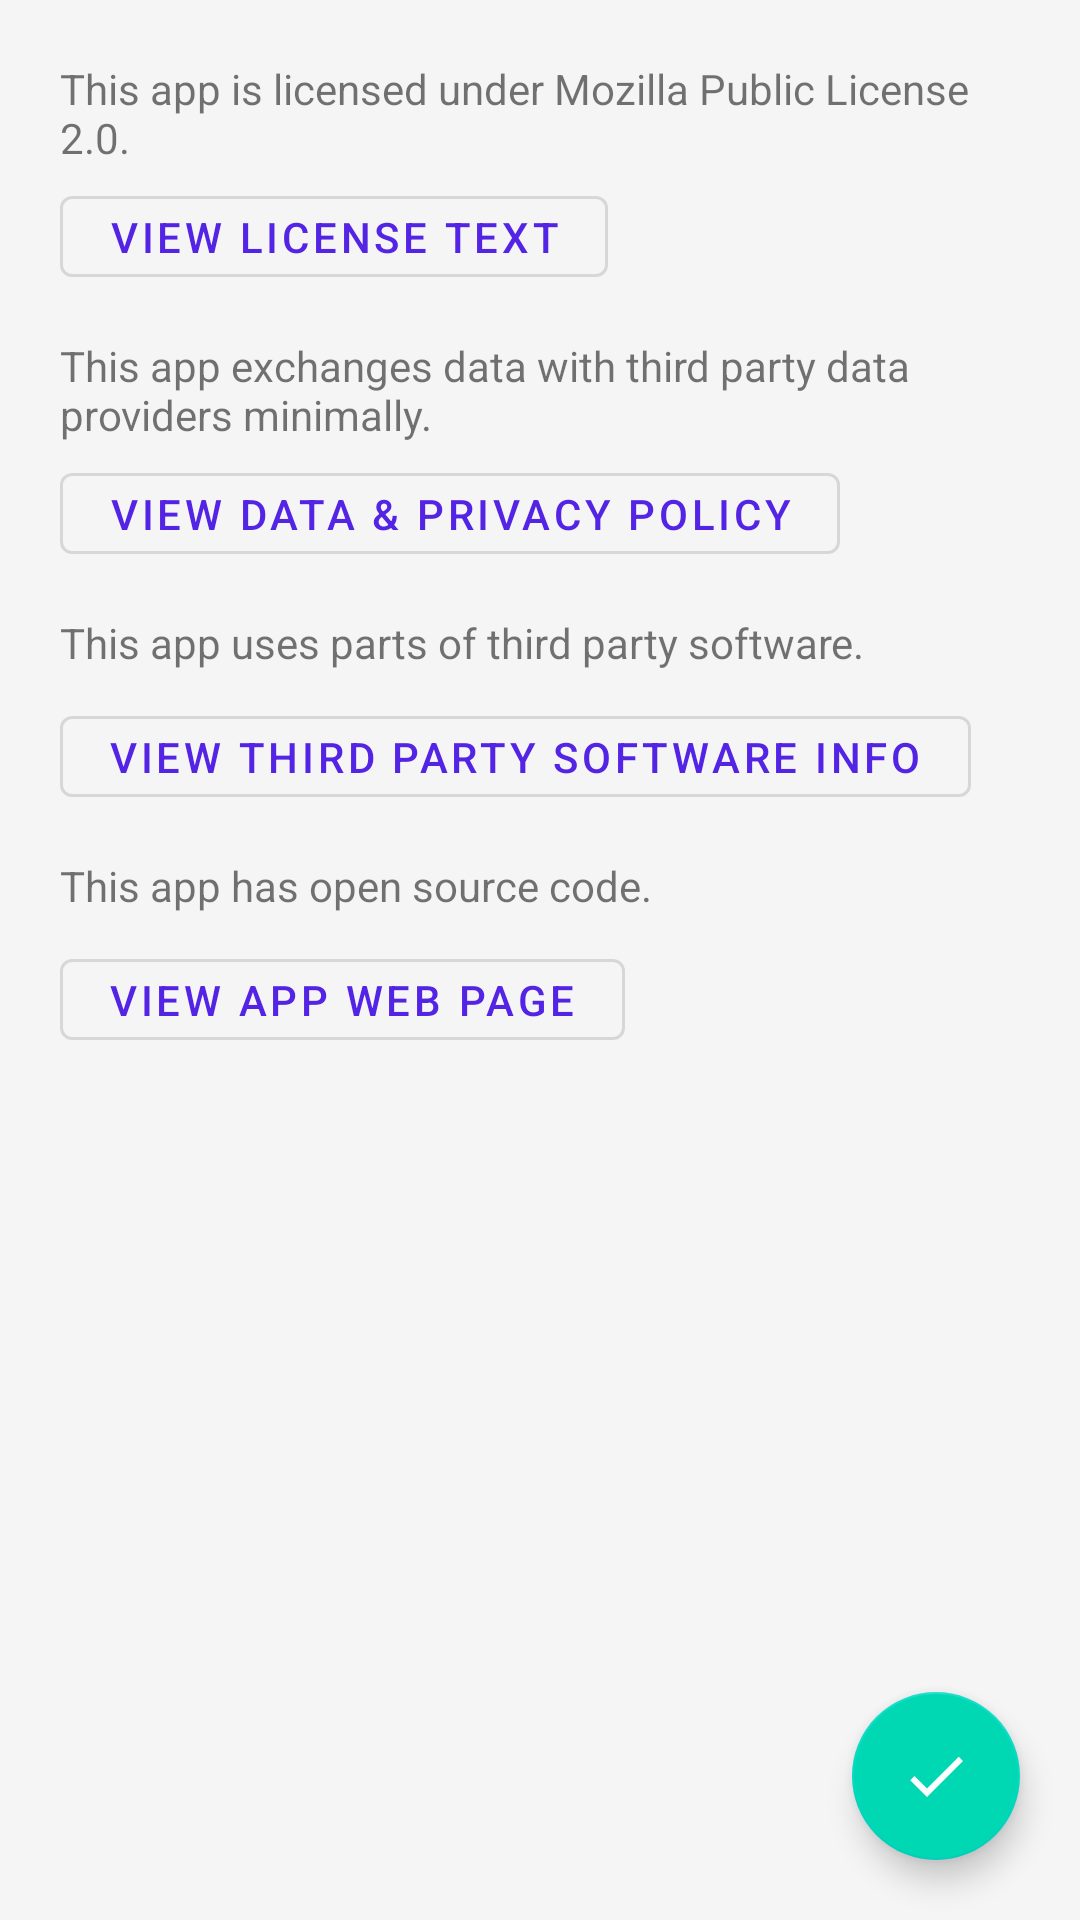

Icon bounding boxes for this 1080w x 1920h phone screenshot, format (x1, y1, x2, y2):
check: (852, 1692, 1020, 1860)
